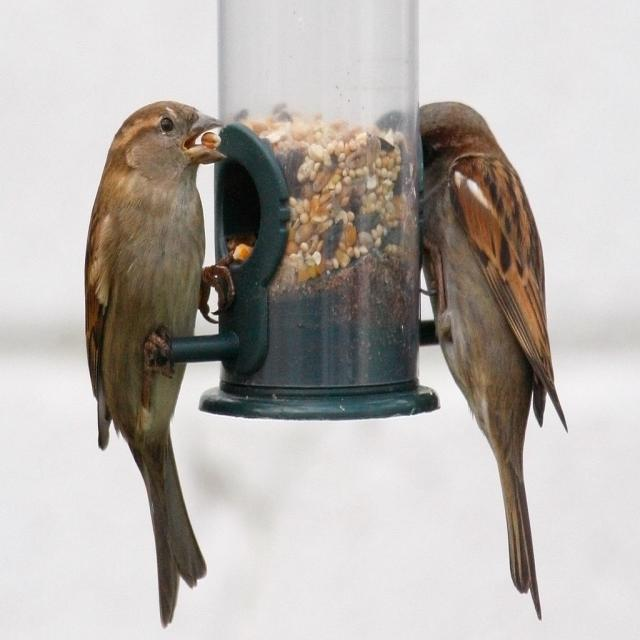bird: (386, 95, 576, 633), (80, 98, 227, 631)
